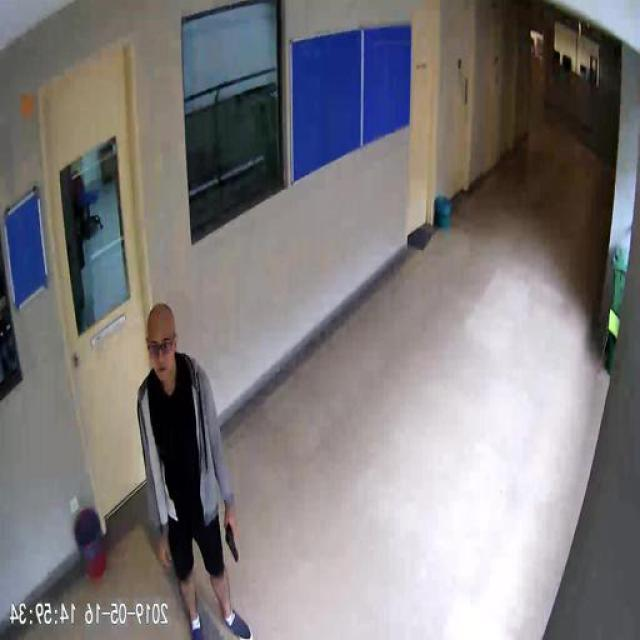Gun: (226, 515, 240, 559)
